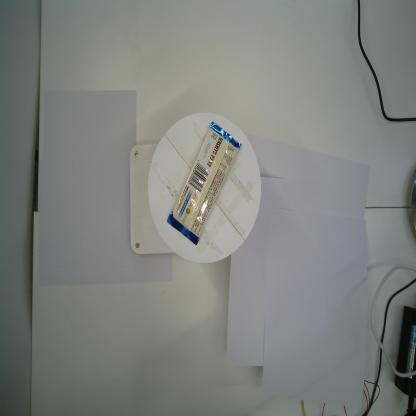Chocolate: (166, 122, 241, 246)
